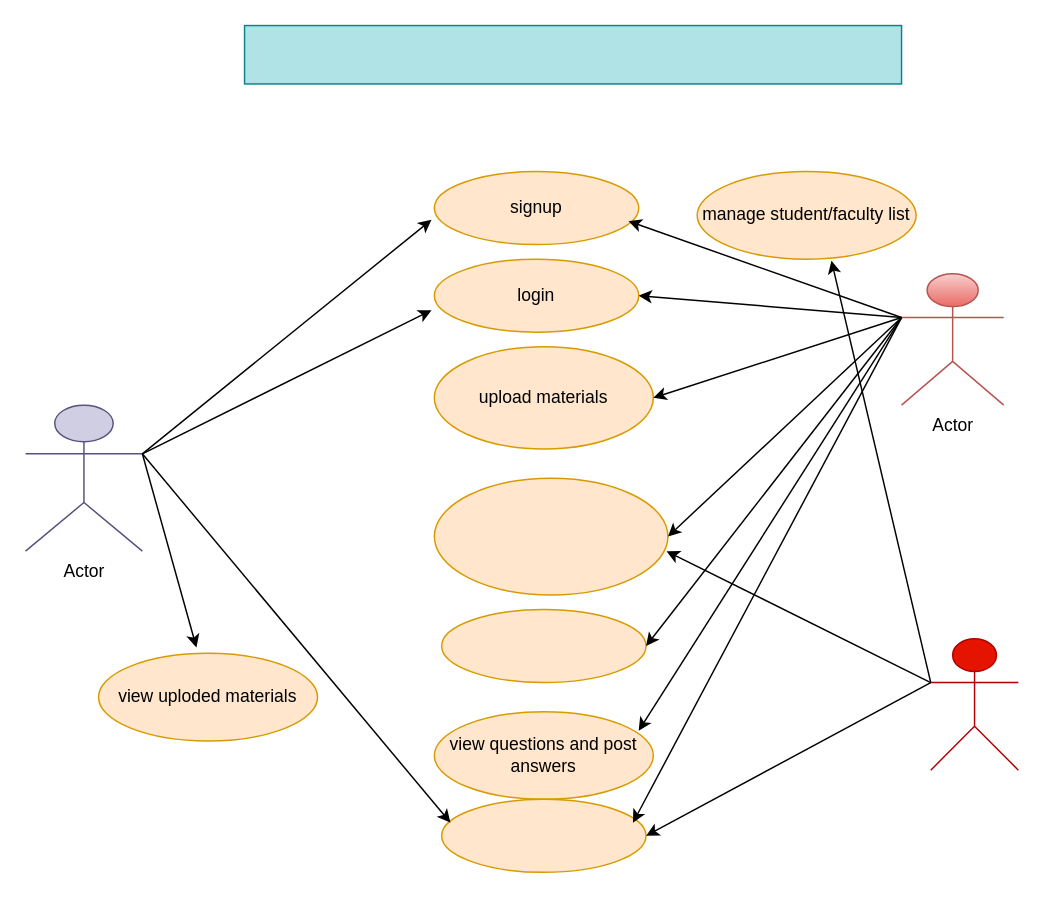
The diagram is 1044 pixels wide and 898 high, and some of its shapes have lost their labels. The centre of each missing label's shape, as x and y in pixels:
"logout" belongs at (x=543, y=835).
"post questions" belongs at (x=543, y=645).
"USE CASE DIAGRAM" belongs at (x=572, y=54).
"view or modify uploaded materials" belongs at (x=550, y=536).
